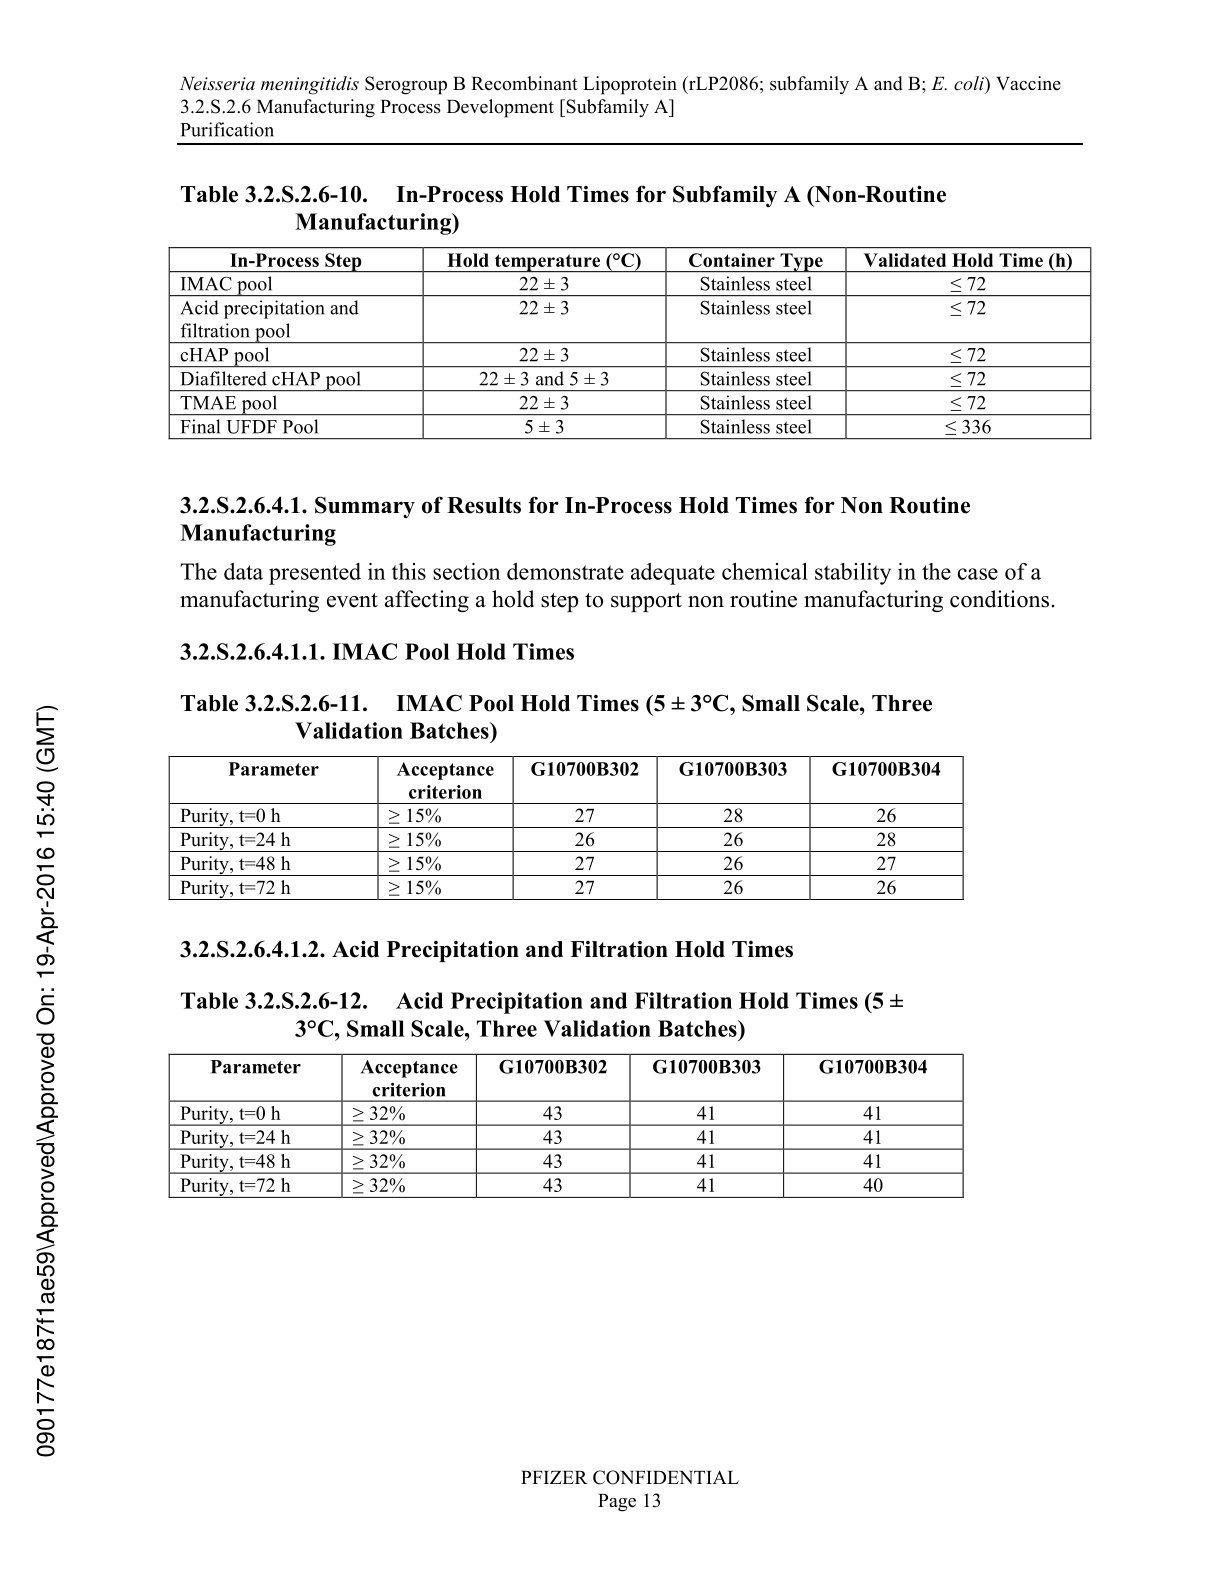full_lined: (167, 246, 1092, 440), (167, 753, 966, 901), (167, 1052, 966, 1200)
